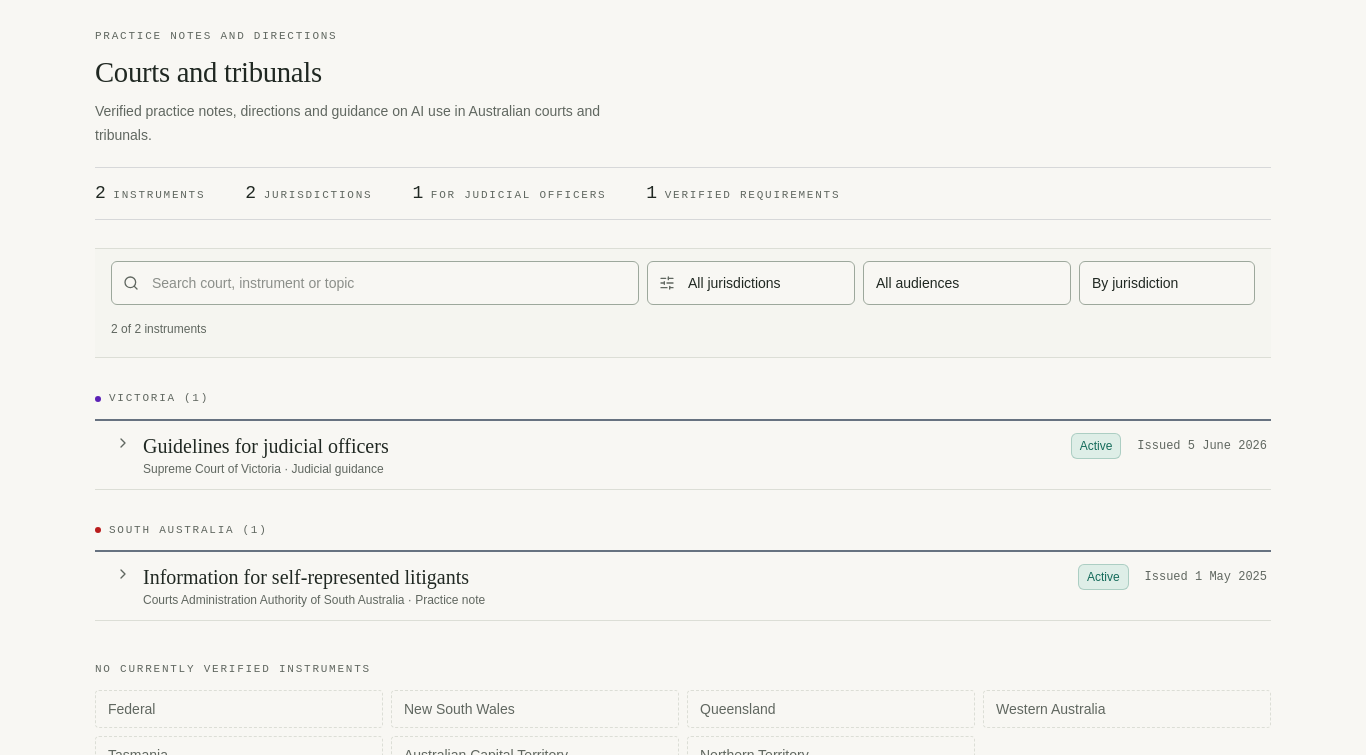
Scenario: CourtsBrowser › filters by audience and keeps the official source reachable
Select "Judicial officers" in the 2nd dropdown named "Filter by audience" at (967, 283), box [863, 261, 1071, 305]
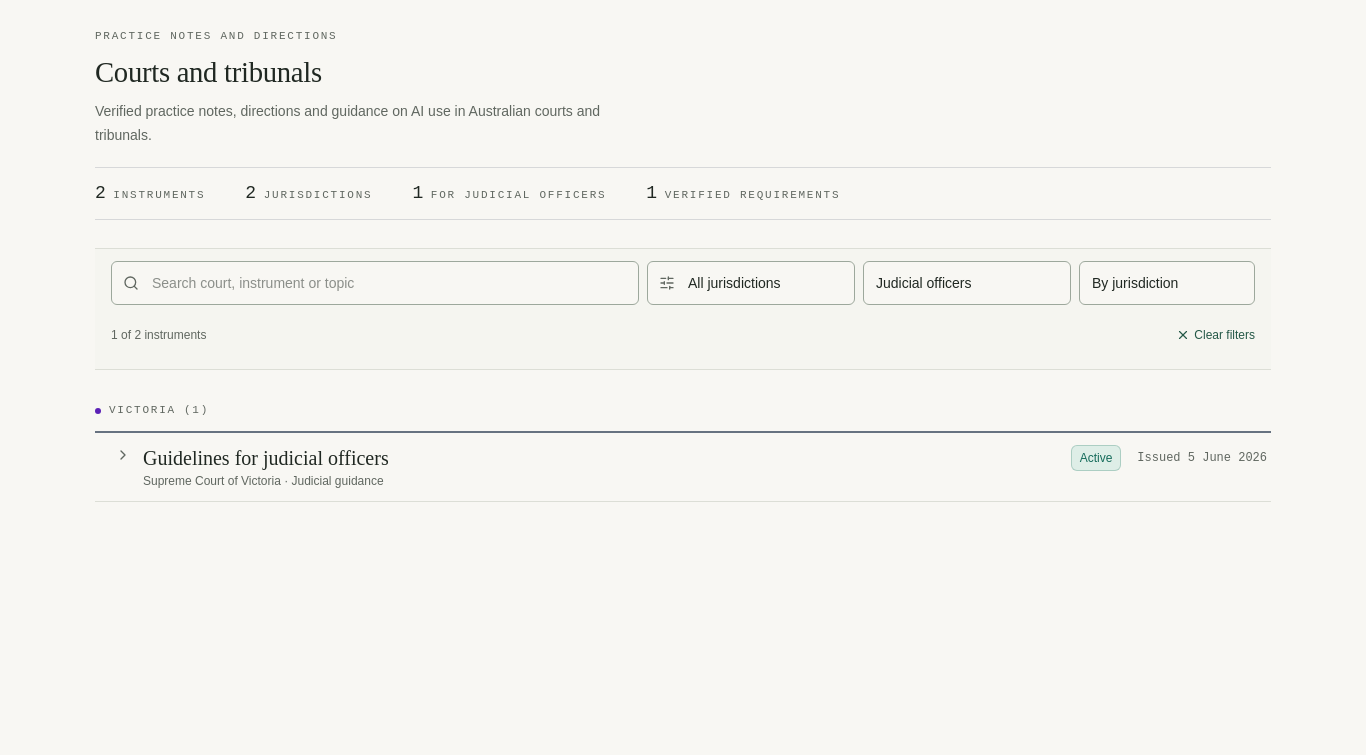
Expected: the text "Guidelines for judicial officers" is shown, [143, 445, 389, 471]
Expected: the text "1 of 2 instruments" is shown, [111, 327, 206, 343]
Expected: the button "Information for self-represented litigants" is gone
Click the button "Guidelines for judicial officers" at (266, 458), box [107, 433, 1271, 501]
(page scrolled)
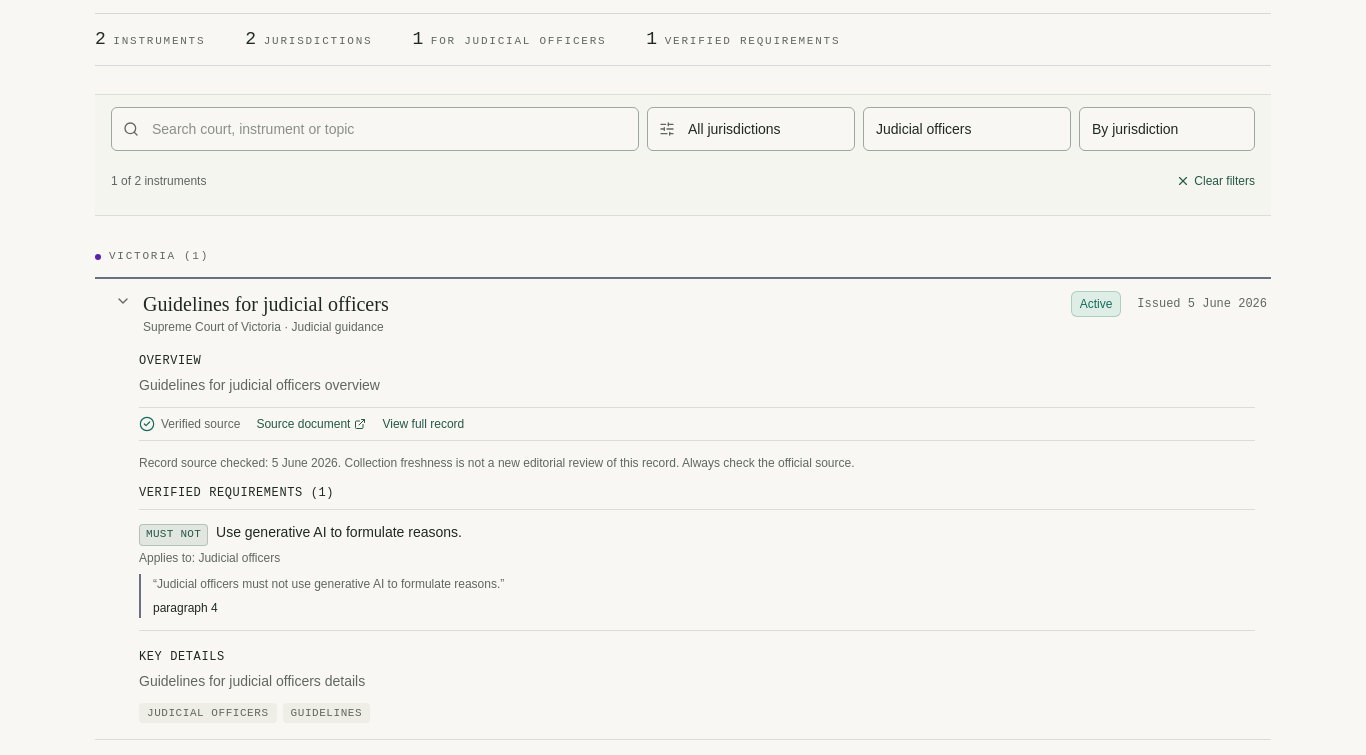
Expected: the heading "Verified requirements (1)" is shown, [139, 486, 334, 500]
Expected: the text "Use generative AI to formulate reasons." is shown, [216, 524, 462, 540]
Expected: the text "Judicial officers must not" shows "Judicial officers must not use generative AI to formulate reasons.", [157, 577, 500, 591]
